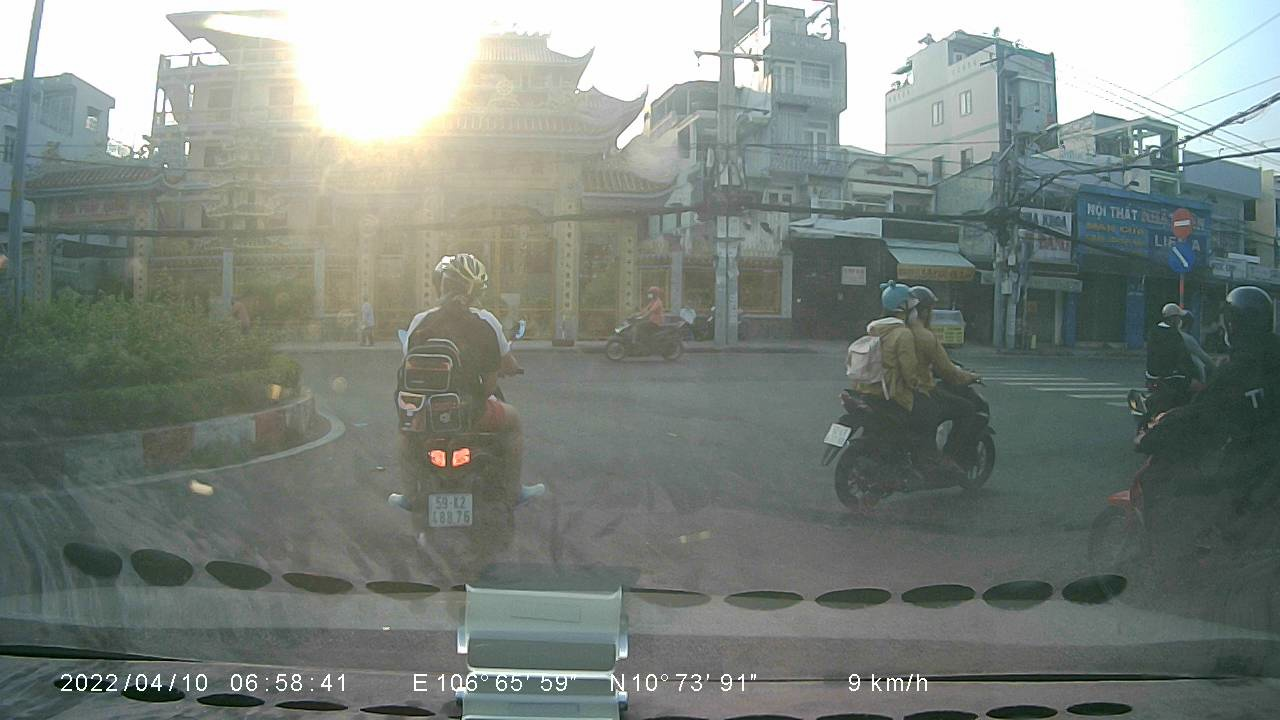Cam di nguoc chieu: (1165, 203, 1196, 241)
Huong di phai re phai: (1166, 238, 1198, 274)
